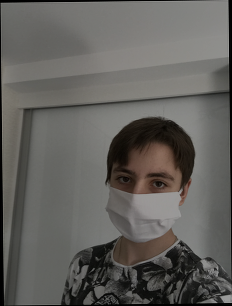with_mask: (105, 162, 184, 243)
